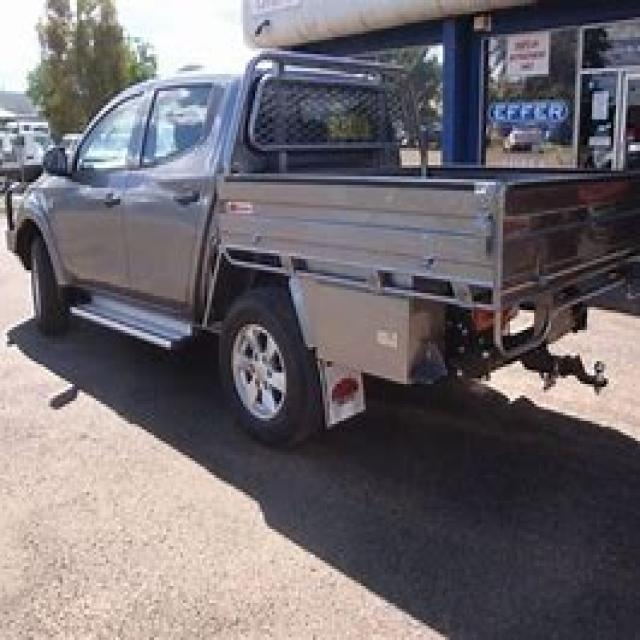light_vehicle: (12, 43, 638, 455)
